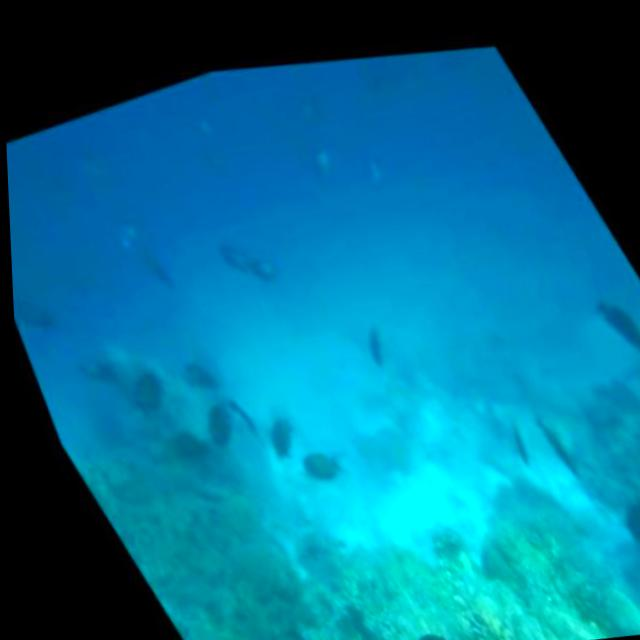Dead Coral: (44, 264, 640, 640)
